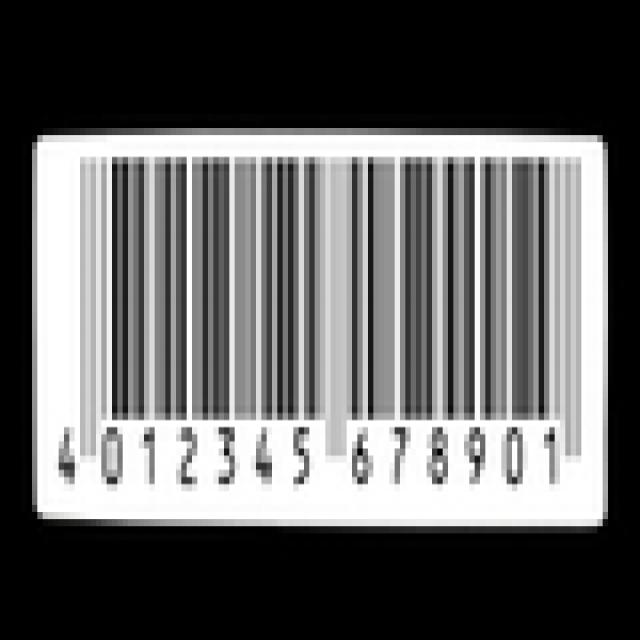Barkod: (51, 143, 594, 498)
